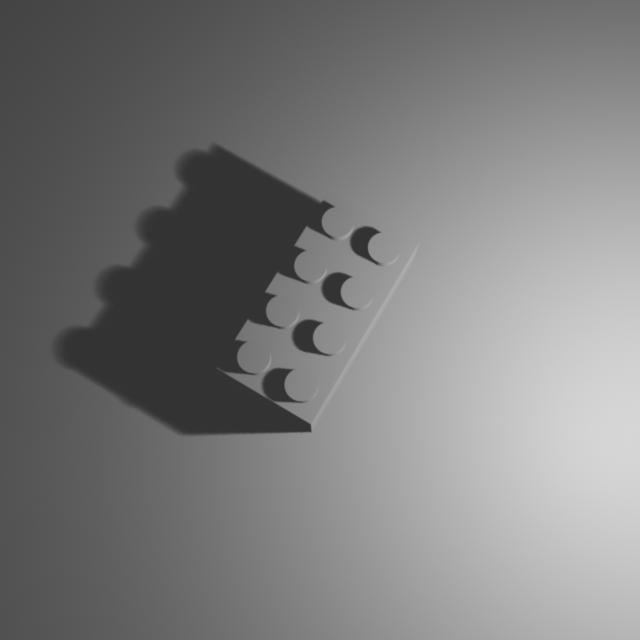lego_2x4: (216, 188, 421, 432)
